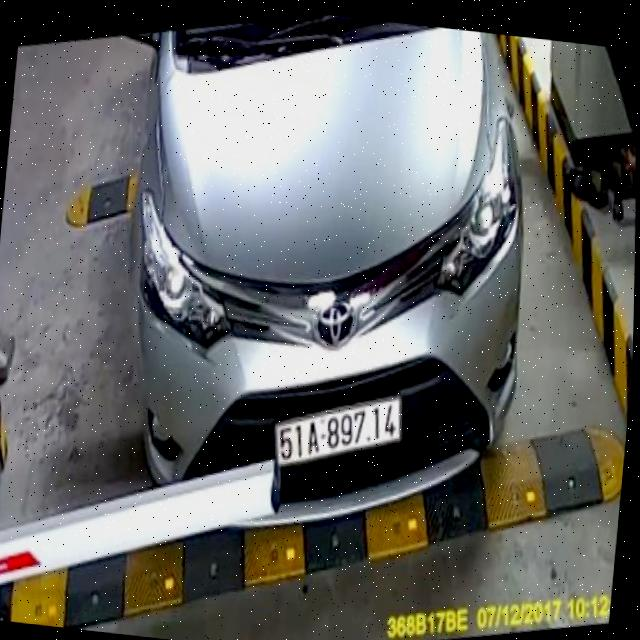car: (116, 12, 533, 548)
plate: (269, 387, 407, 477)
